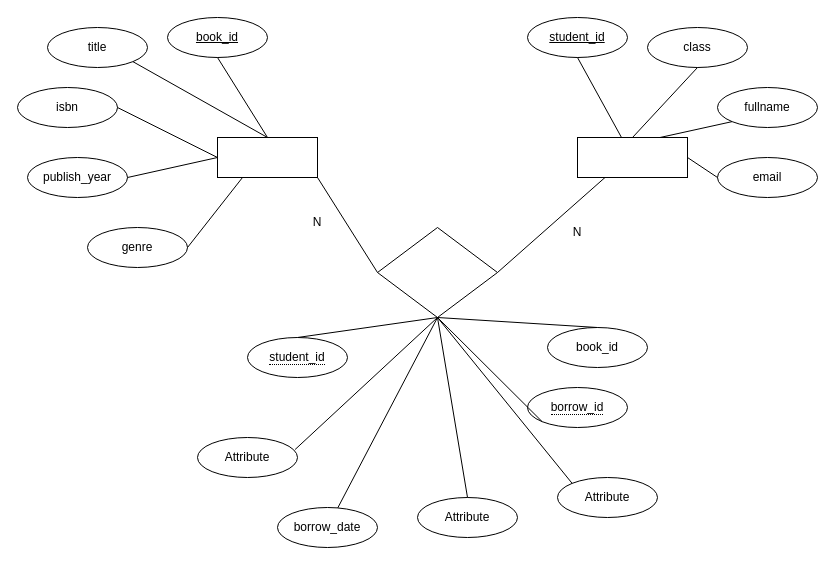
Some shapes in this 835 by 565 pixel diagram are drawn without their labels. The box of each missing label's shape, as (x1, y1, x2, y2) in pixels:
Books: (216, 136, 318, 178)
Borrows: (376, 226, 498, 318)
Students: (576, 136, 688, 178)
